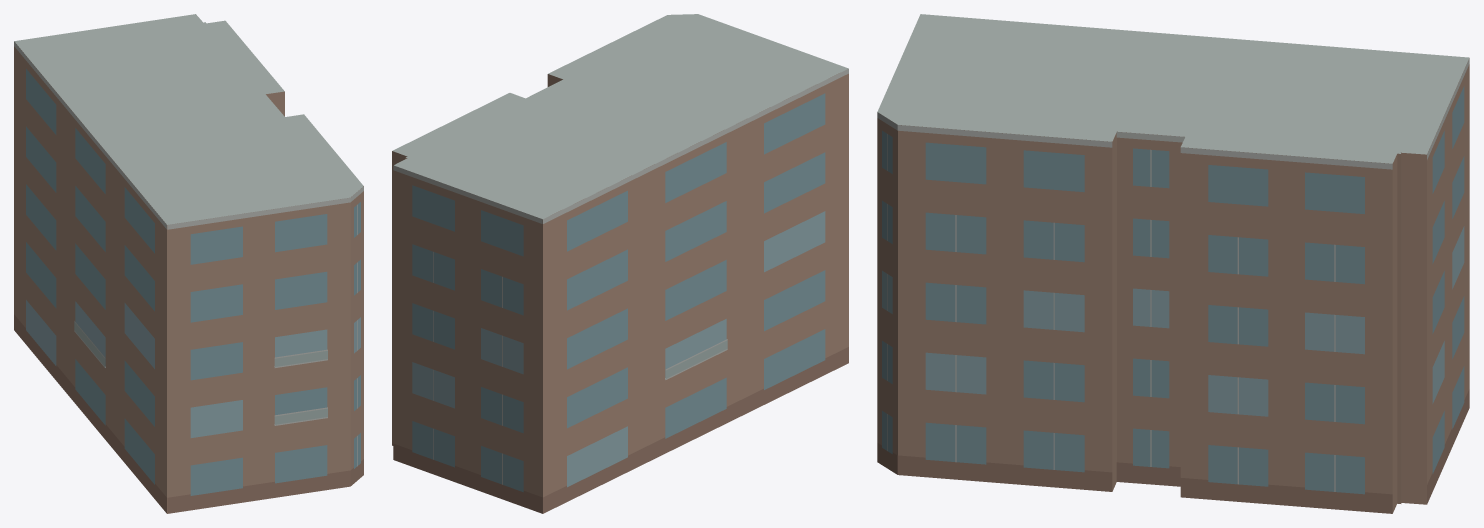
File: survey-upis-32652407.glb
3 renders of one model, left to right at view 1: azimuth 30°, elevation 25°; view 2: azimuth 150°, elevation 25°; view 3: azimuth 270°, elevation 25°, orthographic. The views are drawn at different scales.
Visible parts, largest first — view 1: survey-upis-32652407.tmp; view 2: survey-upis-32652407.tmp; view 3: survey-upis-32652407.tmp.
Boxes of the visible parts, x1,y1,x2,y2 form: survey-upis-32652407.tmp: (14, 14, 363, 513); survey-upis-32652407.tmp: (392, 14, 848, 513); survey-upis-32652407.tmp: (877, 14, 1469, 513).
Bounding box in the file's own units: 13.31 × 14.5 × 22.24.
